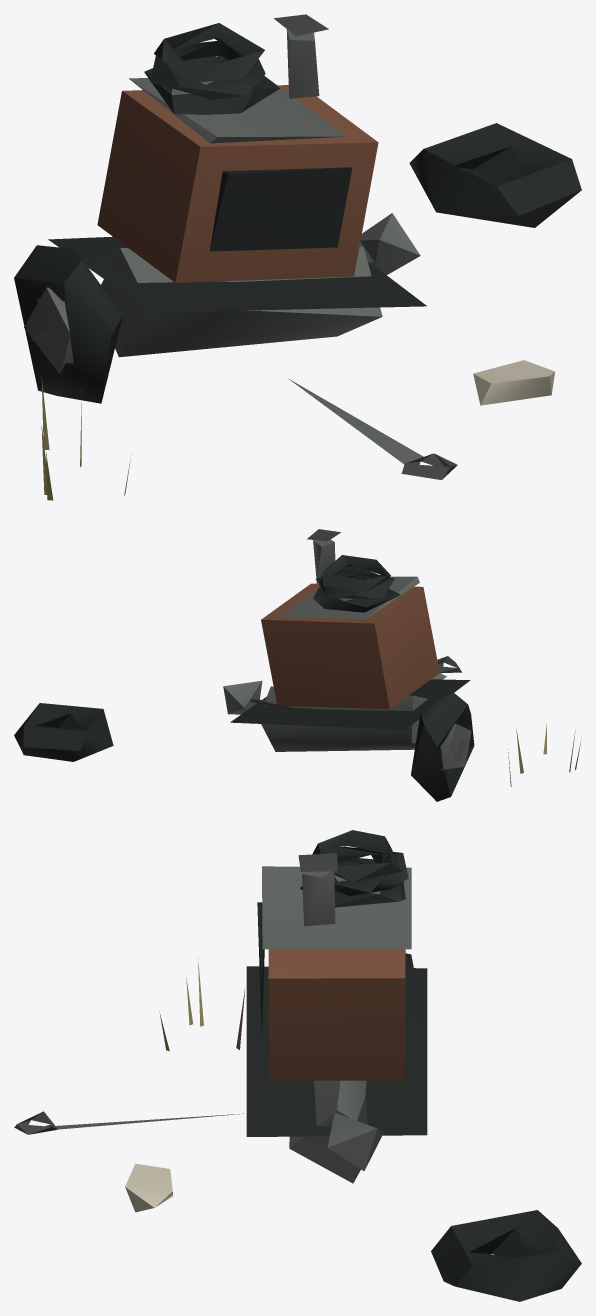
File: compressor_cart_b_lod2.glb
3 renders of one model, top to bottom at view 1: azimuth 30°, elevation 25°; view 2: azimuth 150°, elevation 25°; view 3: azimuth 270°, elevation 25°, orthographic. The views are drawn at different scales.
Visible parts, largest first — view 1: Surface.001; view 2: Surface.001; view 3: Surface.001.
Boxes of the visible parts, bbox=[...] form: Surface.001: bbox=[14, 14, 581, 500]; Surface.001: bbox=[14, 529, 581, 801]; Surface.001: bbox=[14, 830, 581, 1301].
Bounding box in the file's own units: 5.65 × 2.66 × 4.53.
